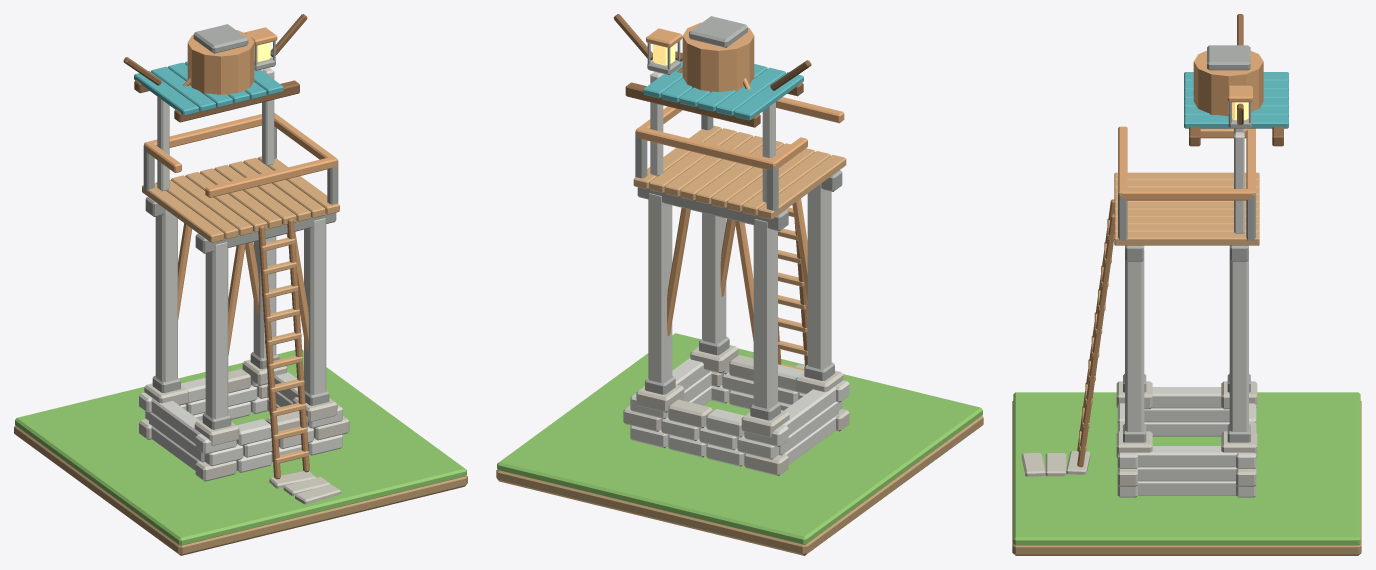
File: tower_l05_active.glb
3 views of the same model, side by side, from view 1: azimuth 30°, elevation 25°; view 2: azimuth 150°, elevation 25°; view 3: azimuth 270°, elevation 25° (orthographic). The views are drawn at different scales.
Parts seen in each view (by area): view 1: tower_l05_grass_tile, tower_l05_earth_tile, post_-0.61_-0.54, post_-0.61_0.54, post_0.61_-0.54, relay_drum, ladder_rail_-0.18, balcony_rail_-0.66, post_0.61_0.54, ladder_rail_0.18, deck_board_0, deck_bearer_-0.54 (+28 smaller); view 2: tower_l05_grass_tile, tower_l05_earth_tile, post_-0.61_0.54, post_-0.61_-0.54, post_0.61_0.54, relay_drum, post_0.61_-0.54, balcony_rail_0.66, deck_board_0, deck_bearer_0.54, stone_return_2_-0.72, relay_drum_cover (+34 smaller); view 3: tower_l05_grass_tile, tower_l05_earth_tile, post_0.61_0.54, post_0.61_-0.54, relay_drum, stone_return_2_0.72, deck_board_8, ladder_rail_0.18, balcony_side_rail, stone_return_2_-0.72, stone_return_1_0.72, stone_return_0_0.72 (+21 smaller).
Part boxes in pixels (left/top/right/bottom): tower_l05_grass_tile: left=15, top=349, right=466, bottom=545; tower_l05_earth_tile: left=14, top=425, right=467, bottom=555; post_-0.61_-0.54: left=205, top=242, right=228, bottom=418; post_-0.61_0.54: left=155, top=209, right=177, bottom=382; post_0.61_-0.54: left=304, top=218, right=326, bottom=394; relay_drum: left=187, top=30, right=254, bottom=95; ladder_rail_-0.18: left=258, top=225, right=280, bottom=479; balcony_rail_-0.66: left=205, top=156, right=337, bottom=197; post_0.61_0.54: left=253, top=236, right=276, bottom=358; ladder_rail_0.18: left=287, top=218, right=309, bottom=472; deck_board_0: left=142, top=183, right=224, bottom=242; deck_bearer_-0.54: left=195, top=212, right=336, bottom=253; tower_l05_grass_tile: left=497, top=333, right=982, bottom=544; tower_l05_earth_tile: left=496, top=415, right=983, bottom=555; post_-0.61_0.54: left=753, top=219, right=777, bottom=408; post_-0.61_-0.54: left=807, top=184, right=831, bottom=369; post_0.61_0.54: left=648, top=193, right=672, bottom=382; relay_drum: left=682, top=22, right=754, bottom=92; post_0.61_-0.54: left=702, top=212, right=726, bottom=343; balcony_rail_0.66: left=635, top=128, right=775, bottom=170; deck_board_0: left=758, top=155, right=846, bottom=219; deck_bearer_0.54: left=637, top=187, right=788, bottom=231; stone_return_2_-0.72: left=781, top=386, right=836, bottom=435; relay_drum_cover: left=689, top=16, right=747, bottom=47; tower_l05_grass_tile: left=1013, top=392, right=1360, bottom=545; tower_l05_earth_tile: left=1012, top=401, right=1361, bottom=555; post_0.61_0.54: left=1229, top=246, right=1248, bottom=431; post_0.61_-0.54: left=1125, top=246, right=1144, bottom=431; relay_drum: left=1193, top=50, right=1263, bottom=116; stone_return_2_0.72: left=1136, top=446, right=1237, bottom=467; deck_board_8: left=1114, top=232, right=1259, bottom=245; ladder_rail_0.18: left=1077, top=214, right=1114, bottom=467; balcony_side_rail: left=1121, top=189, right=1252, bottom=200; stone_return_2_-0.72: left=1151, top=387, right=1222, bottom=408; stone_return_1_0.72: left=1137, top=467, right=1236, bottom=481; stone_return_0_0.72: left=1138, top=481, right=1235, bottom=495.
Bounding box in the file's own units: 3.6 × 4.89 × 3.6.
